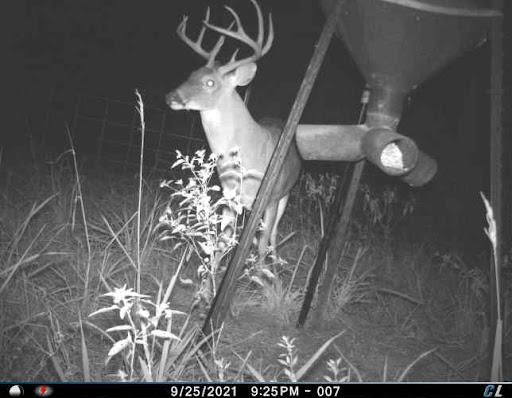Deer: (159, 0, 297, 302)
